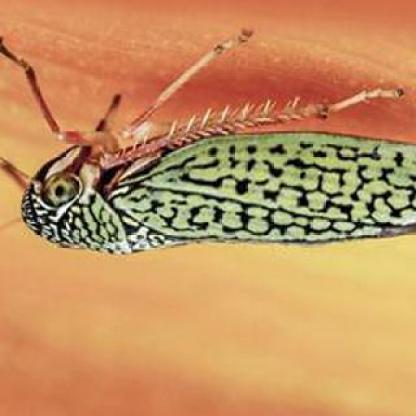green-leafhopper: (0, 110, 415, 252)
